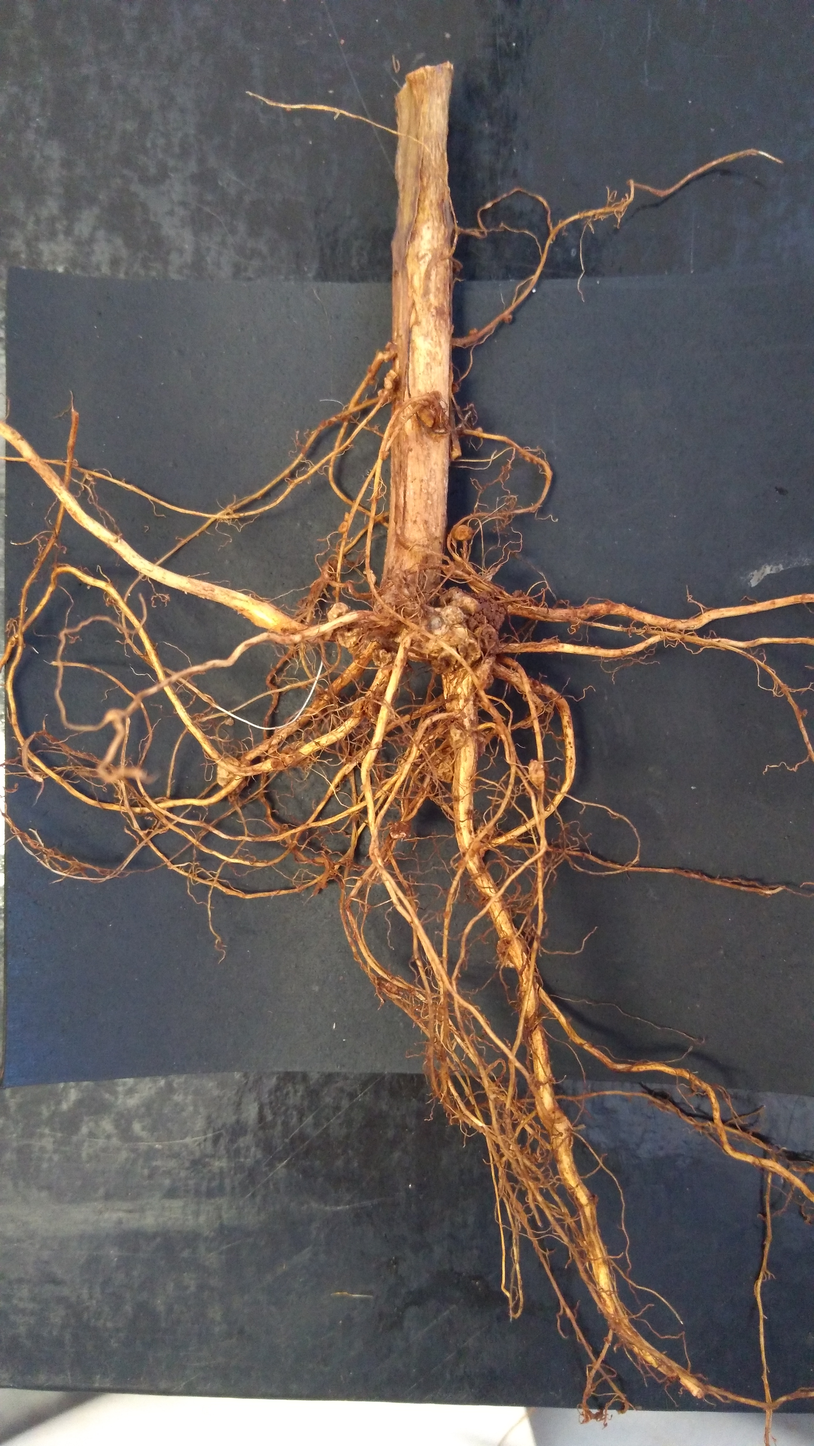nodule: (493, 935, 529, 971), (214, 754, 245, 790), (281, 739, 317, 770), (475, 599, 508, 631), (473, 621, 501, 656), (474, 822, 496, 860), (409, 400, 437, 429), (446, 594, 483, 615), (456, 636, 482, 664), (434, 755, 456, 785), (349, 694, 375, 719), (527, 758, 547, 790), (372, 593, 396, 619), (325, 600, 352, 622), (440, 604, 467, 626), (474, 664, 496, 691), (334, 627, 363, 647), (370, 648, 395, 668), (448, 726, 468, 751), (381, 368, 402, 391), (429, 656, 452, 677), (451, 523, 475, 543), (388, 819, 411, 839), (443, 624, 466, 644), (391, 568, 405, 585), (400, 586, 417, 598), (337, 521, 350, 536), (368, 570, 379, 587), (402, 598, 413, 612), (380, 450, 392, 462), (503, 313, 514, 324), (468, 326, 481, 335), (225, 717, 235, 727), (331, 588, 340, 599), (343, 510, 351, 522)
